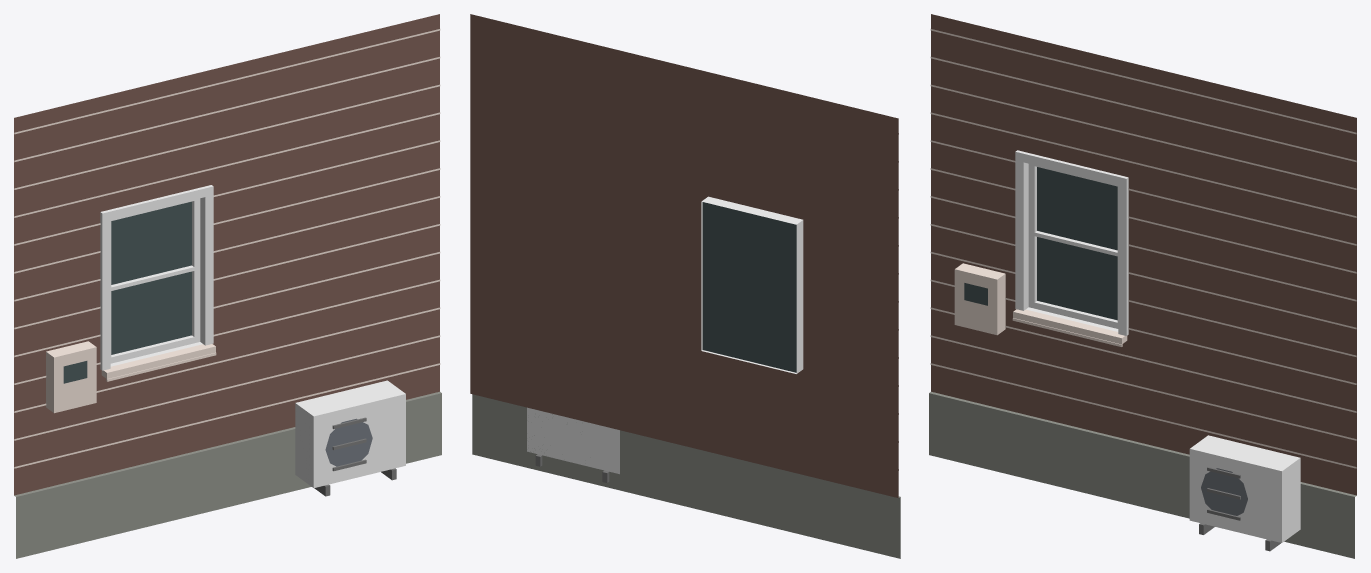
The model's file is base-w4_close.fbx.
The picture shows the model from 3 angles, left to right: view 1: azimuth 30°, elevation 25°; view 2: azimuth 150°, elevation 25°; view 3: azimuth 330°, elevation 25°; orthographic projection.
Parts seen in each view (by area): view 1: a2000s2/800/base-w4_close; view 2: a2000s2/800/base-w4_close; view 3: a2000s2/800/base-w4_close.
Part boxes in pixels (bbox=[...]): a2000s2/800/base-w4_close: bbox=[14, 14, 441, 558]; a2000s2/800/base-w4_close: bbox=[470, 14, 900, 558]; a2000s2/800/base-w4_close: bbox=[929, 14, 1356, 558].
Size of the model in its own units: 3.6 by 3.55 by 0.42.
